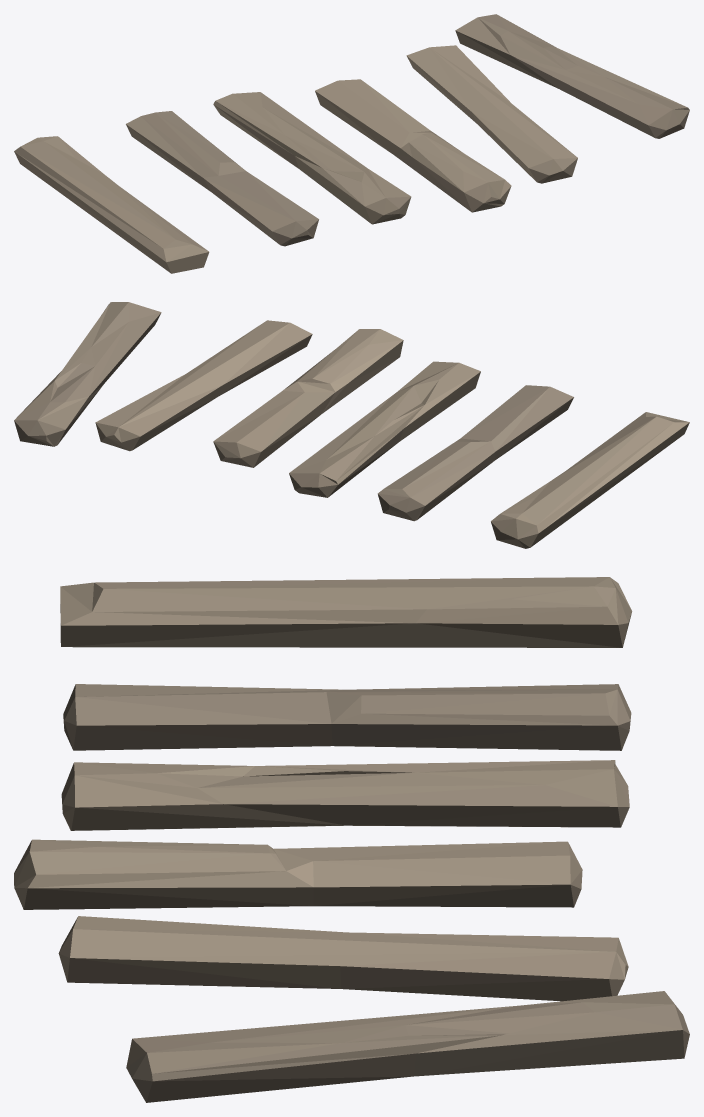
The model's file is ea01_env_road_wooden_planks_03b.glb.
3 renders of one model, top to bottom at view 1: azimuth 30°, elevation 25°; view 2: azimuth 150°, elevation 25°; view 3: azimuth 270°, elevation 25°, orthographic. The views are drawn at different scales.
Visible parts, largest first — view 1: utileria.objeto_generico.ea01_env_road_wooden_planks_03b; view 2: utileria.objeto_generico.ea01_env_road_wooden_planks_03b; view 3: utileria.objeto_generico.ea01_env_road_wooden_planks_03b.
Part boxes in pixels (bbox=[...]): utileria.objeto_generico.ea01_env_road_wooden_planks_03b: bbox=[14, 14, 689, 273]; utileria.objeto_generico.ea01_env_road_wooden_planks_03b: bbox=[14, 302, 689, 548]; utileria.objeto_generico.ea01_env_road_wooden_planks_03b: bbox=[14, 577, 689, 1102].
Bounding box in the file's own units: 5.34 × 0.2462 × 3.07.
